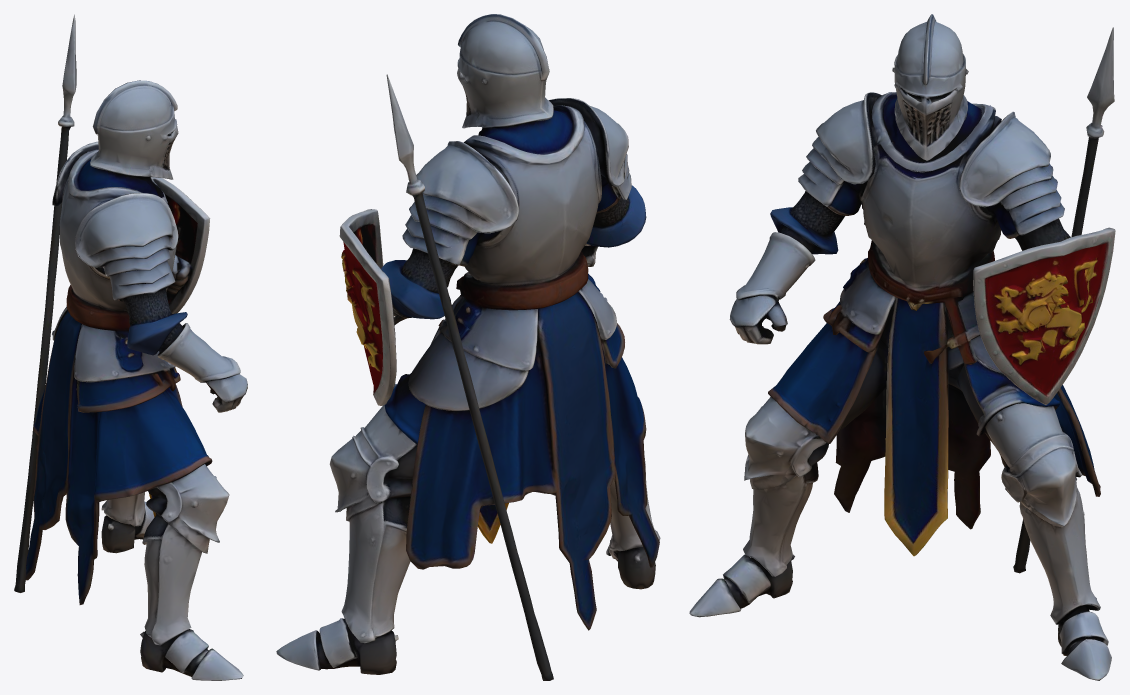
The model's file is knight.glb.
3 views of the same model, side by side, from view 1: azimuth 30°, elevation 25°; view 2: azimuth 150°, elevation 25°; view 3: azimuth 270°, elevation 25° (orthographic). The views are drawn at different scales.
Parts seen in each view (by area): view 1: node_a2ccbb0c-4171-4063-a626-47ec5ee22749; view 2: node_a2ccbb0c-4171-4063-a626-47ec5ee22749; view 3: node_a2ccbb0c-4171-4063-a626-47ec5ee22749.
Part boxes in pixels (x1,y1,x2,y2): node_a2ccbb0c-4171-4063-a626-47ec5ee22749: [14, 14, 247, 680]; node_a2ccbb0c-4171-4063-a626-47ec5ee22749: [276, 14, 660, 680]; node_a2ccbb0c-4171-4063-a626-47ec5ee22749: [689, 14, 1115, 680].
Bounding box in the file's own units: 0.4231 × 1 × 0.6433.
1 material, 1 textured.
